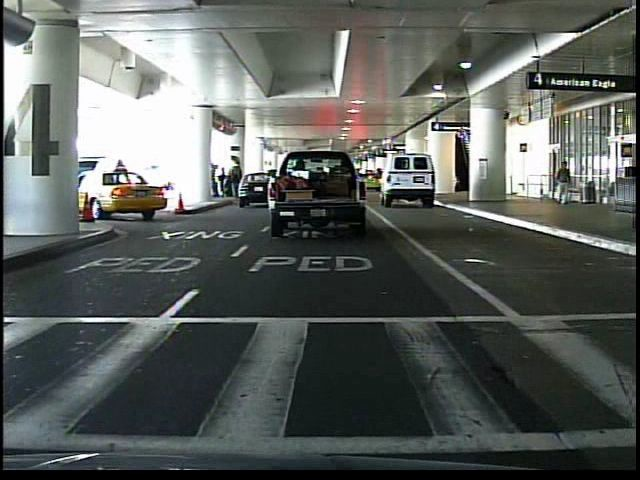person: (553, 159, 574, 211)
